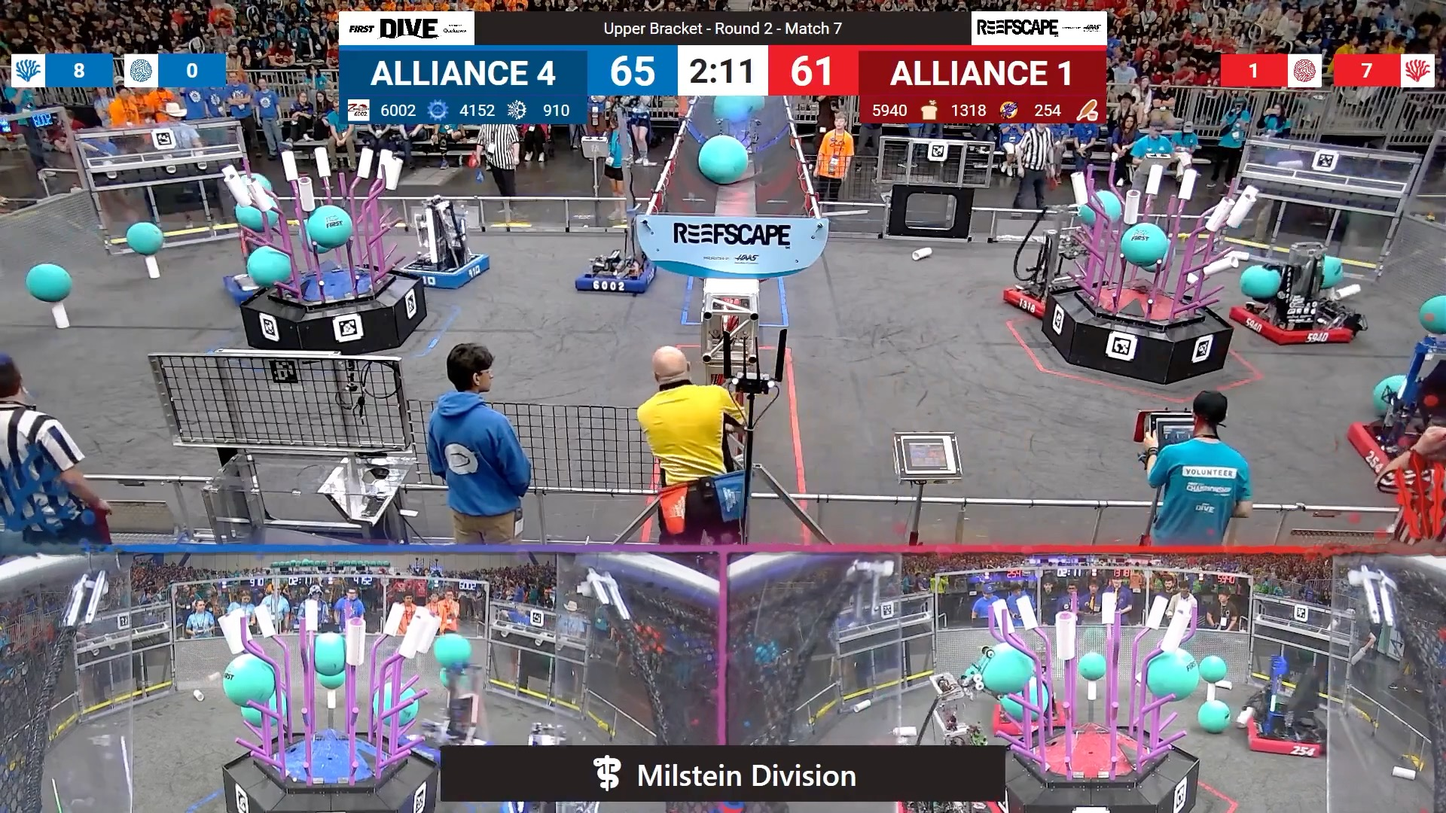bumpers: (1349, 418, 1446, 497), (1222, 305, 1361, 356), (1234, 710, 1330, 764), (391, 252, 495, 292), (572, 256, 663, 297), (998, 277, 1060, 322), (220, 275, 279, 308)
